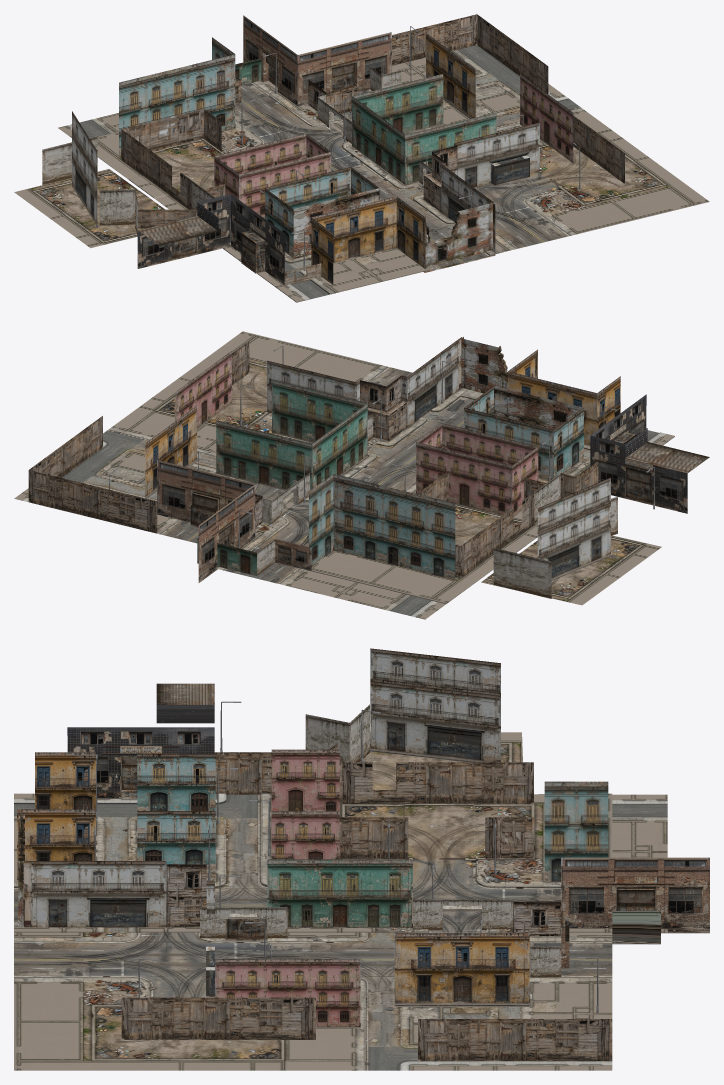
File: modular_havana_street__low-poly_asset_kit.glb
3 renders of one model, top to bottom at view 1: azimuth 30°, elevation 25°; view 2: azimuth 150°, elevation 25°; view 3: azimuth 270°, elevation 25°, orthographic. The views are drawn at different scales.
Visible parts, largest first — view 1: Empty.028_18; view 2: Empty.028_18; view 3: Empty.028_18.
Boxes of the visible parts, left/top/right/bottom form: Empty.028_18: left=14, top=14, right=709, bottom=302; Empty.028_18: left=14, top=331, right=709, bottom=619; Empty.028_18: left=14, top=648, right=709, bottom=1070.
Size of the model in its own units: 26.29 by 3.81 by 22.7.
39 materials, 37 textured.
